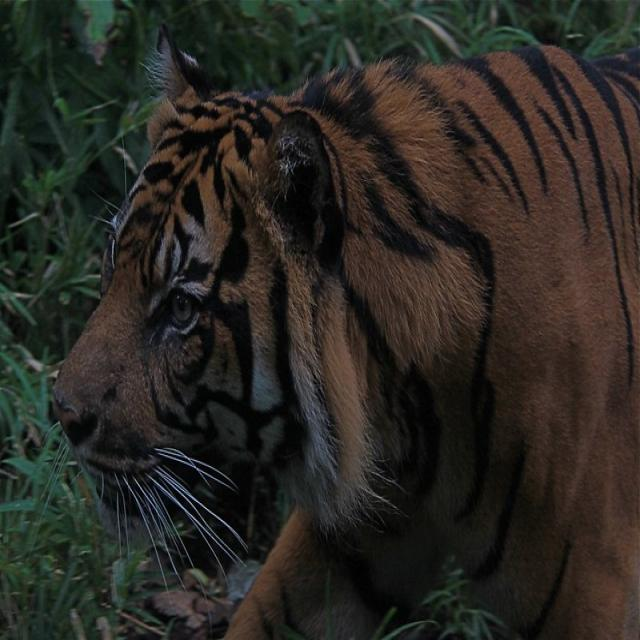Tiger: (47, 19, 639, 629)
